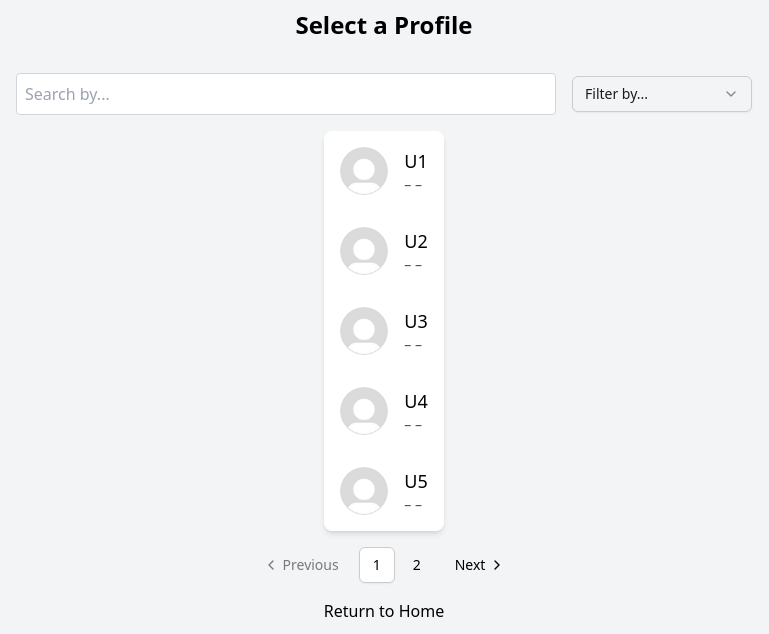
it: StudentList › paginates profiles correctly
expect the text "U1" is shown: met, box [404,147,428,175]
expect the text "U6" is not shown: met
Click the link "2": (417, 564) [413,555,421,574]
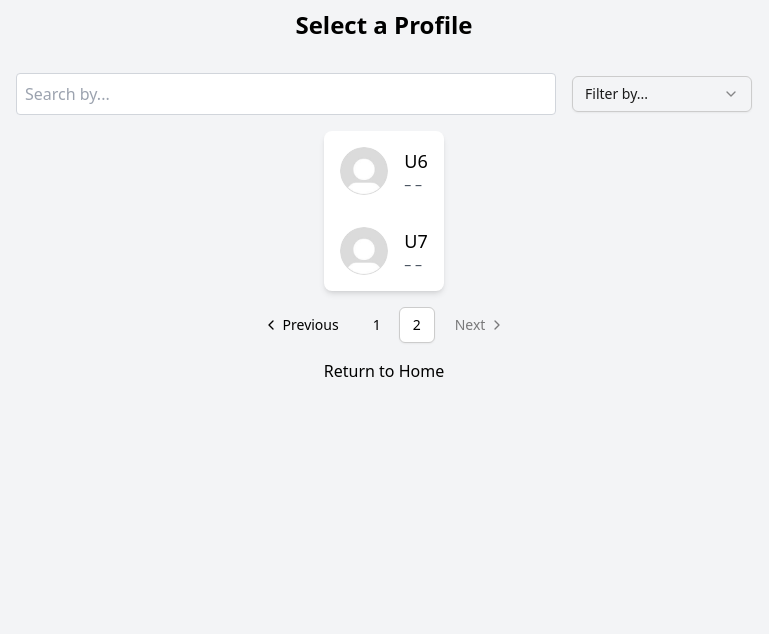
expect the text "U6" is shown: met, box [404,147,428,175]
expect the button "U1" is gone: met
